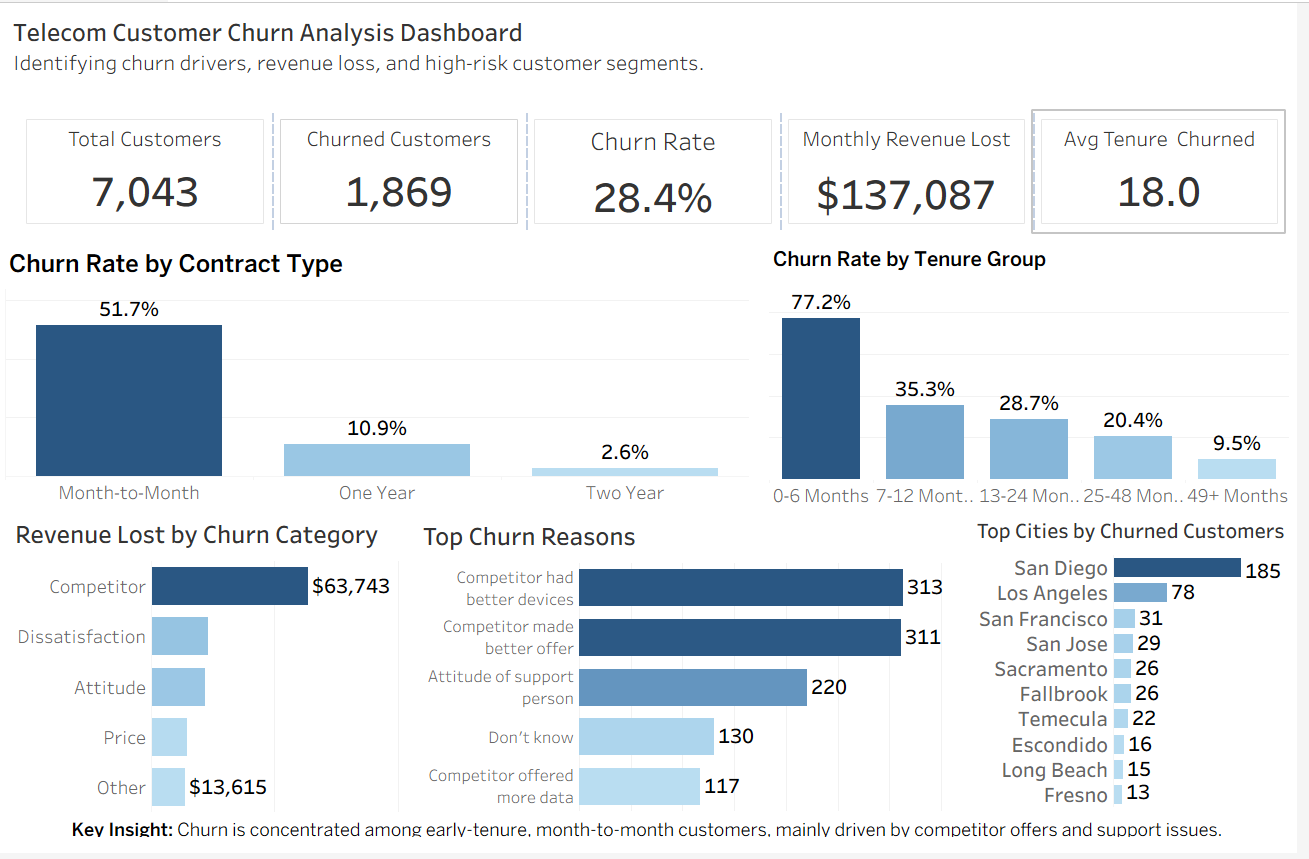

The dashboard page shown, as its layout file describes it:
{"tool":"tableau","page":{"name":"Dashboard 2","canvas":[1300,850],"ordinal":0},"visuals":[{"type":"title","box":[8,8,1284,69]},{"type":"worksheet","title":"KPI - Total Customers","mark":"Text","box":[21,108,254,121]},{"type":"worksheet","title":"KPI - Churned Customers","mark":"Text","box":[275,108,254,121]},{"type":"worksheet","title":"KPI - Churn Rate","mark":"Text","box":[529,108,254,121]},{"type":"worksheet","title":"KPI - Revenue Lost","mark":"Text","box":[783,108,253,121]},{"type":"worksheet","title":"KPI - Avg Tenure Churned","mark":"Text","box":[1036,108,253,121]},{"type":"worksheet","title":"Churn Rate by Tenure Group","mark":"Automatic","rows":["Calculation_2323283578068996"],"cols":["Calculation_1228720410701825"],"box":[772,240,520,276]},{"type":"worksheet","title":"Churn Rate by Contract","mark":"Bar","rows":["Calculation_2323283578068996"],"cols":["Contract"],"box":[8,242,744,271]},{"type":"worksheet","title":"Top Cities by Churned Customers","mark":"Automatic","rows":["City"],"cols":["Calculation_2323283567603713"],"box":[976,509,319,295]},{"type":"worksheet","title":"Revenue Lost by Churn Category","mark":"Bar","rows":["Churn Category"],"cols":["Calculation_2323283580653574"],"box":[14,510,391,299]},{"type":"worksheet","title":"Top Churn Reasons","mark":"Automatic","rows":["Churn Reason"],"cols":["Calculation_2323283567603713"],"box":[422,512,545,296]},{"type":"text","box":[8,810,1284,32]}]}

Visuals, with their boxes in screenshot pixels (x1, y1, x2, y2), scaled from the page's 1300x850 canvas onto the 1309x859 screenshot:
title: x1=8 y1=8 x2=1301 y2=78
"KPI - Total Customers" worksheet (Text marks): x1=21 y1=109 x2=277 y2=231
"KPI - Churned Customers" worksheet (Text marks): x1=277 y1=109 x2=533 y2=231
"KPI - Churn Rate" worksheet (Text marks): x1=533 y1=109 x2=788 y2=231
"KPI - Revenue Lost" worksheet (Text marks): x1=788 y1=109 x2=1043 y2=231
"KPI - Avg Tenure Churned" worksheet (Text marks): x1=1043 y1=109 x2=1298 y2=231
"Churn Rate by Tenure Group" worksheet: x1=777 y1=243 x2=1301 y2=521
"Churn Rate by Contract" worksheet (Bar marks): x1=8 y1=245 x2=757 y2=518
"Top Cities by Churned Customers" worksheet: x1=983 y1=514 x2=1304 y2=813
"Revenue Lost by Churn Category" worksheet (Bar marks): x1=14 y1=515 x2=408 y2=818
"Top Churn Reasons" worksheet: x1=425 y1=517 x2=974 y2=817
text: x1=8 y1=819 x2=1301 y2=851
